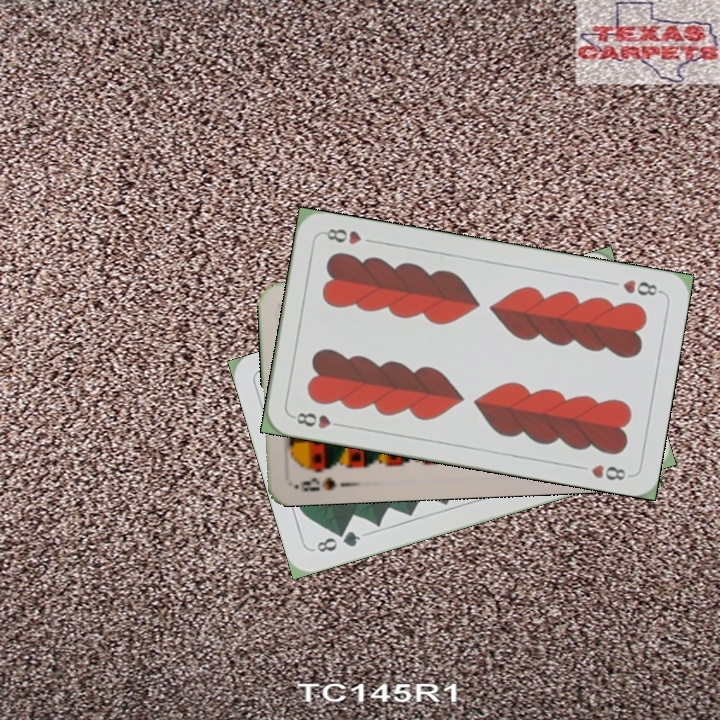G8: (309, 527, 363, 555)
H8: (288, 408, 347, 431), (618, 275, 664, 299)
S8: (290, 473, 339, 494)
